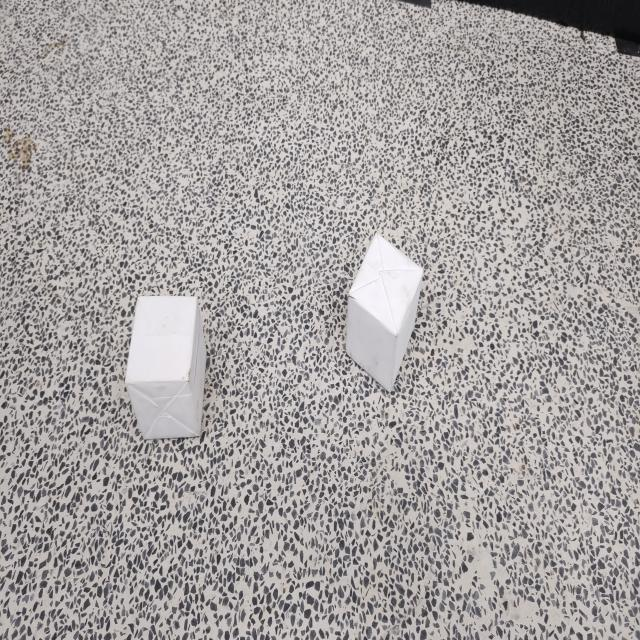bale: (341, 227, 430, 402), (121, 286, 213, 451)
